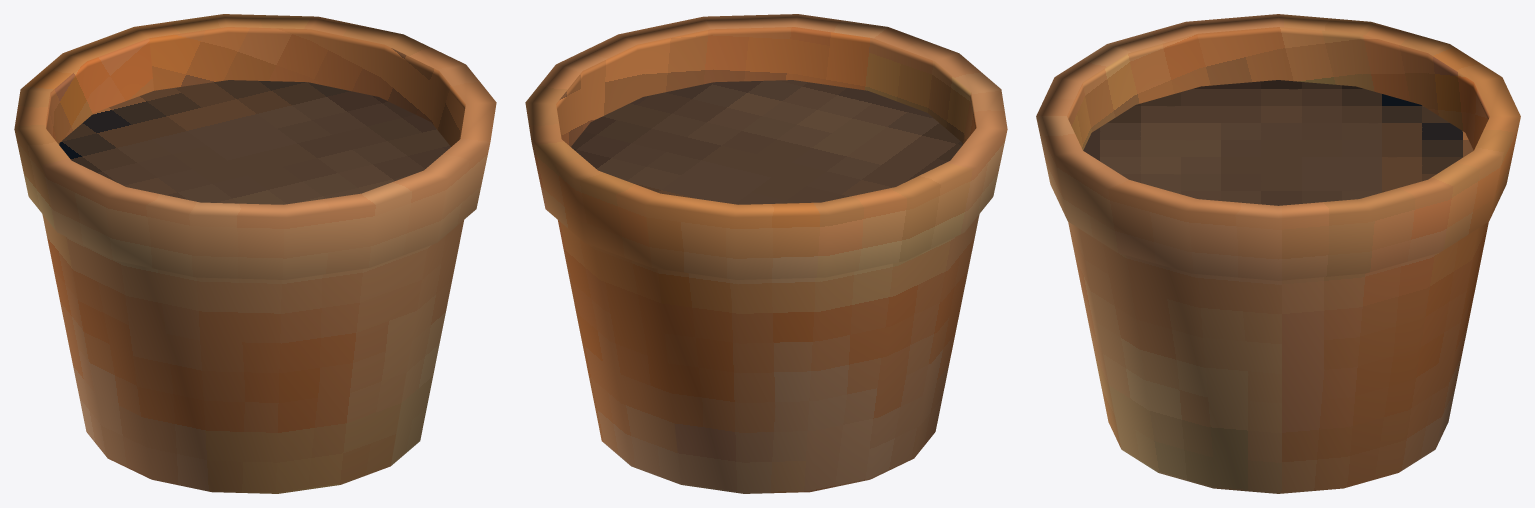
Rendered from objects_un_t01flowerpots03.gltf.
The picture shows the model from 3 angles, left to right: view 1: azimuth 30°, elevation 25°; view 2: azimuth 150°, elevation 25°; view 3: azimuth 270°, elevation 25°; orthographic projection.
Parts seen in each view (by area): view 1: objects_un_t01flowerpots03_mesh_shape:objects_un_t01flowerpo; view 2: objects_un_t01flowerpots03_mesh_shape:objects_un_t01flowerpo; view 3: objects_un_t01flowerpots03_mesh_shape:objects_un_t01flowerpo.
Part boxes in pixels (left/top/right/bottom): objects_un_t01flowerpots03_mesh_shape:objects_un_t01flowerpo: left=14, top=14, right=496, bottom=493; objects_un_t01flowerpots03_mesh_shape:objects_un_t01flowerpo: left=525, top=14, right=1007, bottom=493; objects_un_t01flowerpots03_mesh_shape:objects_un_t01flowerpo: left=1036, top=14, right=1520, bottom=493.
Size of what is drawn, in the model's own units: 0.4926 by 0.3426 by 0.4926.
1 material, 1 textured.
